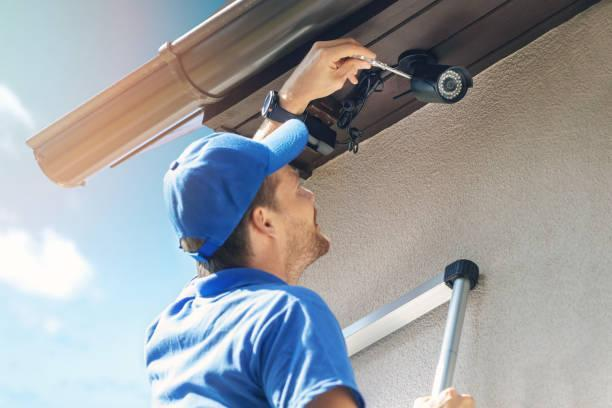camera: (404, 33, 481, 130)
